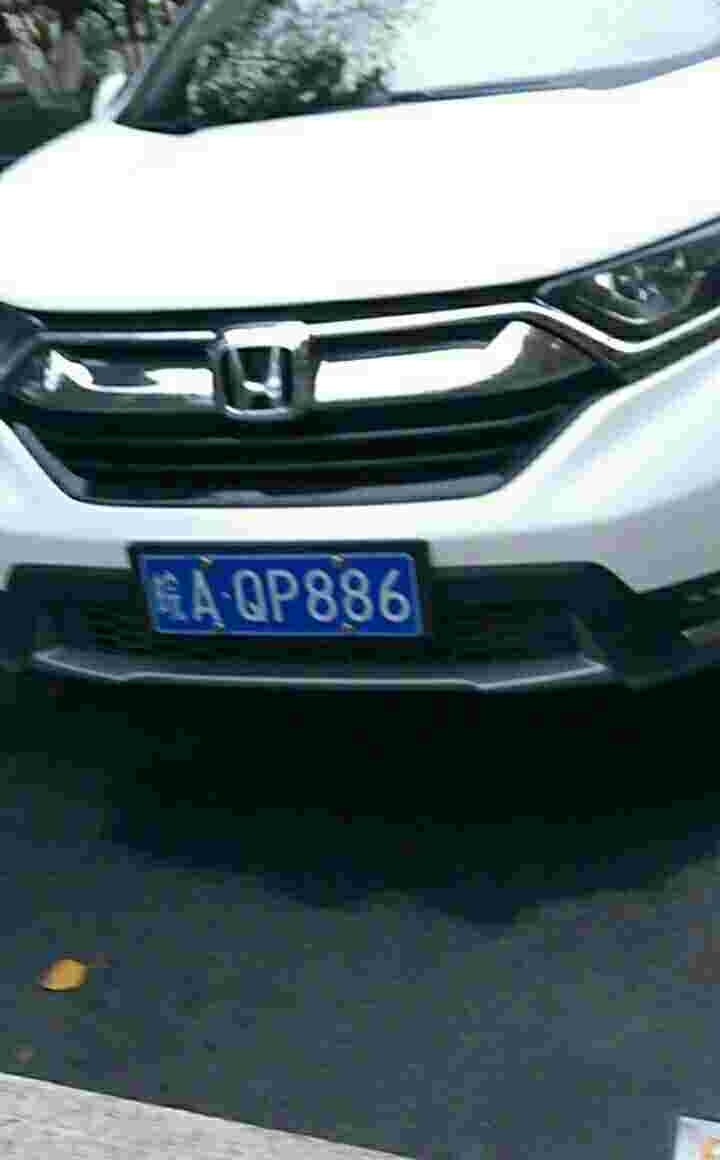license_plate: (144, 549, 444, 643)
